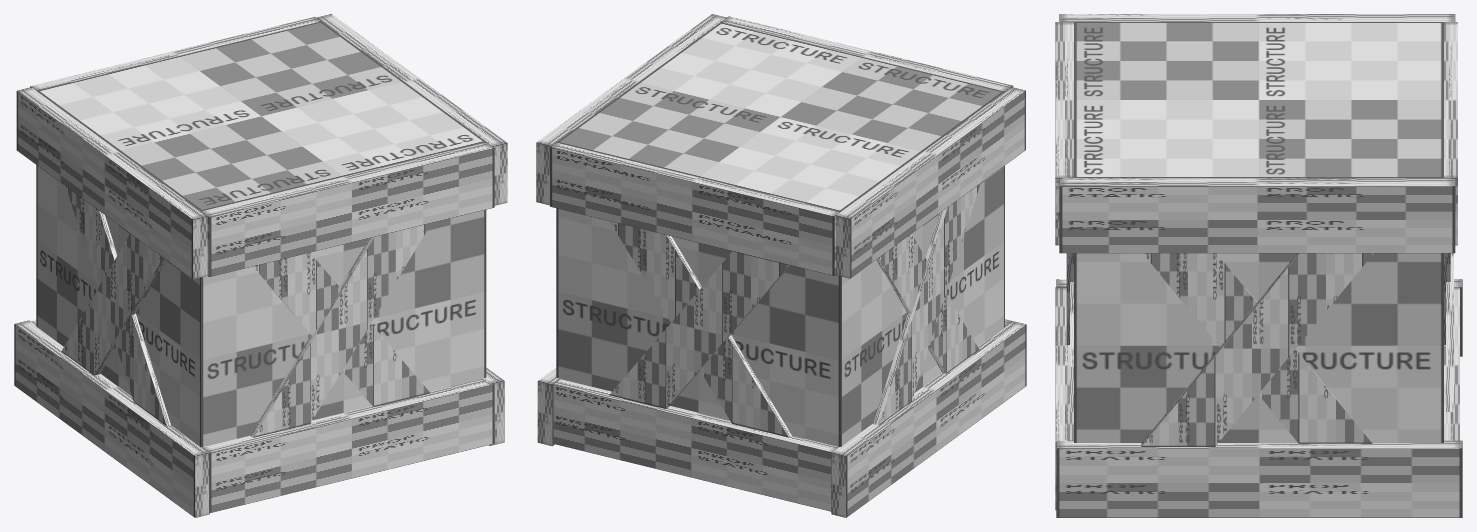
The model's file is Crate(moveable).fbx.
3 renders of one model, left to right at view 1: azimuth 30°, elevation 25°; view 2: azimuth 150°, elevation 25°; view 3: azimuth 270°, elevation 25°, orthographic. The views are drawn at different scales.
Visible parts, largest first — view 1: Crate_moveable_, crate_trim__1_, crate_trim__6_, crate_trim__4_, crate_trim__3_, crate_trim_center__1_, crate_trim_center__1__3, crate_trim_center__3_, crate_trim__2_, crate_trim, crate_trim__7_; view 2: Crate_moveable_, crate_trim, crate_trim__5_, crate_trim__4_, crate_trim__3_, crate_trim_center__1_, crate_trim_center__2_, crate_trim_center__1__2, crate_trim__2_, crate_trim__1_, crate_trim__7_; view 3: Crate_moveable_, crate_trim__7_, crate_trim__2_, crate_trim_center, crate_trim__1_, crate_trim__3_, crate_trim, crate_trim__6_, crate_trim__5_, crate_trim_center__2_, crate_trim_center__3_, crate_trim_center__1__3.
Boxes of the visible parts, box(x1,y1,x2,y2) form: Crate_moveable_: box(36, 21, 486, 447); crate_trim__1_: box(201, 142, 494, 276); crate_trim__6_: box(203, 379, 494, 513); crate_trim__4_: box(14, 320, 209, 517); crate_trim__3_: box(16, 87, 207, 279); crate_trim_center__1_: box(61, 187, 170, 426); crate_trim_center__1__3: box(250, 223, 431, 437); crate_trim_center__3_: box(253, 252, 430, 406); crate_trim__2_: box(317, 14, 507, 205); crate_trim: box(30, 17, 320, 90); crate_trim__7_: box(482, 368, 504, 445); Crate_moveable_: box(556, 22, 1004, 446); crate_trim: box(550, 142, 840, 275); crate_trim__5_: box(553, 379, 838, 511); crate_trim__4_: box(831, 321, 1026, 517); crate_trim__3_: box(835, 87, 1025, 278); crate_trim_center__1_: box(873, 183, 980, 425); crate_trim_center__2_: box(609, 251, 789, 408); crate_trim_center__1__2: box(610, 221, 791, 437); crate_trim__2_: box(536, 14, 726, 205); crate_trim__1_: box(721, 16, 1013, 91); crate_trim__7_: box(537, 368, 560, 446); Crate_moveable_: box(1074, 22, 1443, 442); crate_trim__7_: box(1056, 440, 1462, 517); crate_trim__2_: box(1059, 178, 1455, 253); crate_trim_center: box(1141, 253, 1373, 446); crate_trim__1_: box(1055, 22, 1073, 245); crate_trim__3_: box(1059, 14, 1455, 21); crate_trim: box(1444, 22, 1457, 245); crate_trim__6_: box(1055, 287, 1073, 510); crate_trim__5_: box(1444, 287, 1459, 440); crate_trim_center__2_: box(1446, 253, 1453, 411); crate_trim_center__3_: box(1070, 282, 1073, 411); crate_trim_center__1__3: box(1066, 253, 1073, 344).
Bounding box in the file's own units: 81.3 × 73.71 × 81.12.
